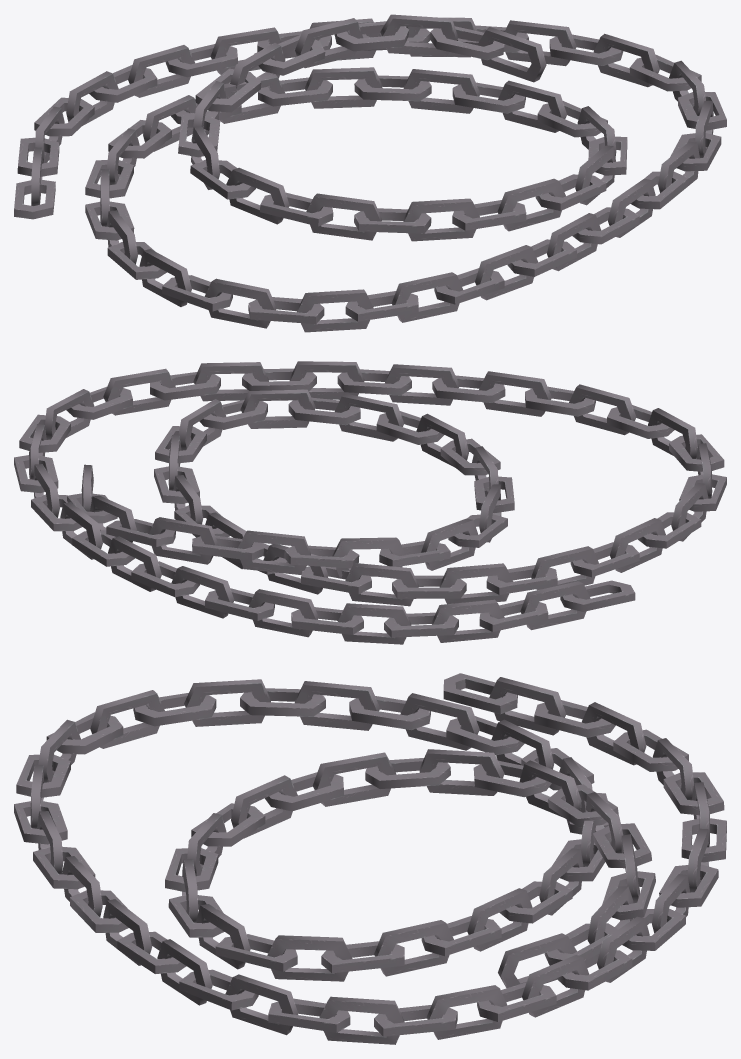
File: chain_coil.glb
3 renders of one model, top to bottom at view 1: azimuth 30°, elevation 25°; view 2: azimuth 150°, elevation 25°; view 3: azimuth 270°, elevation 25°, orthographic. The views are drawn at different scales.
Parts seen in each view (by area): view 1: Chain_Coil; view 2: Chain_Coil; view 3: Chain_Coil.
Boxes of the visible parts, bbox=[...] form: Chain_Coil: bbox=[14, 14, 726, 332]; Chain_Coil: bbox=[14, 361, 726, 644]; Chain_Coil: bbox=[14, 673, 726, 1044].
Size of the model in its own units: 1.07 by 0.0871 by 0.9078.
Materials: 1 (1 with a texture image).
